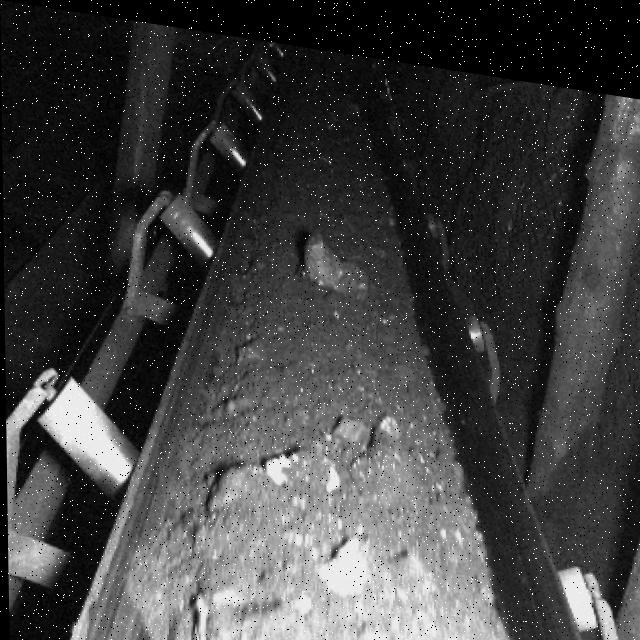large_sized_coal: (302, 221, 369, 287)
